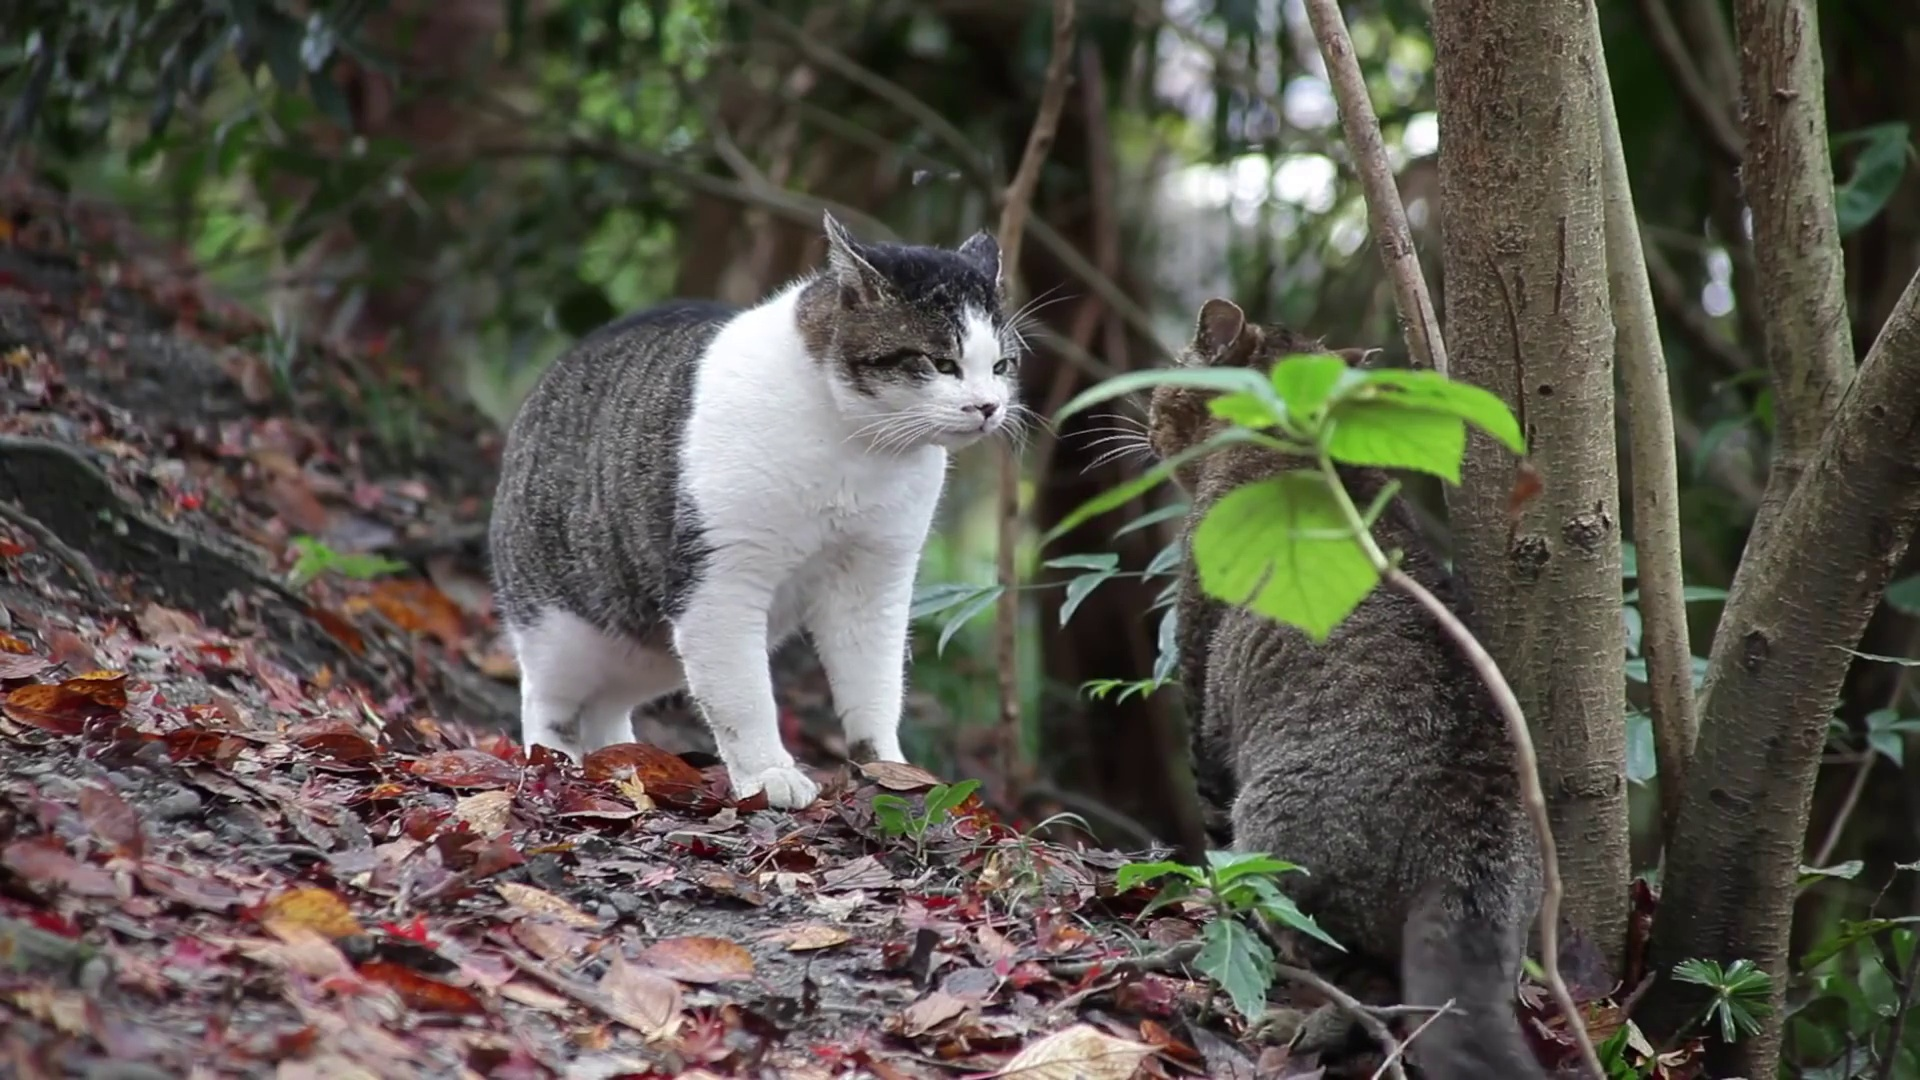black-white: (485, 208, 1015, 808)
pure black: (1145, 295, 1542, 1080)
